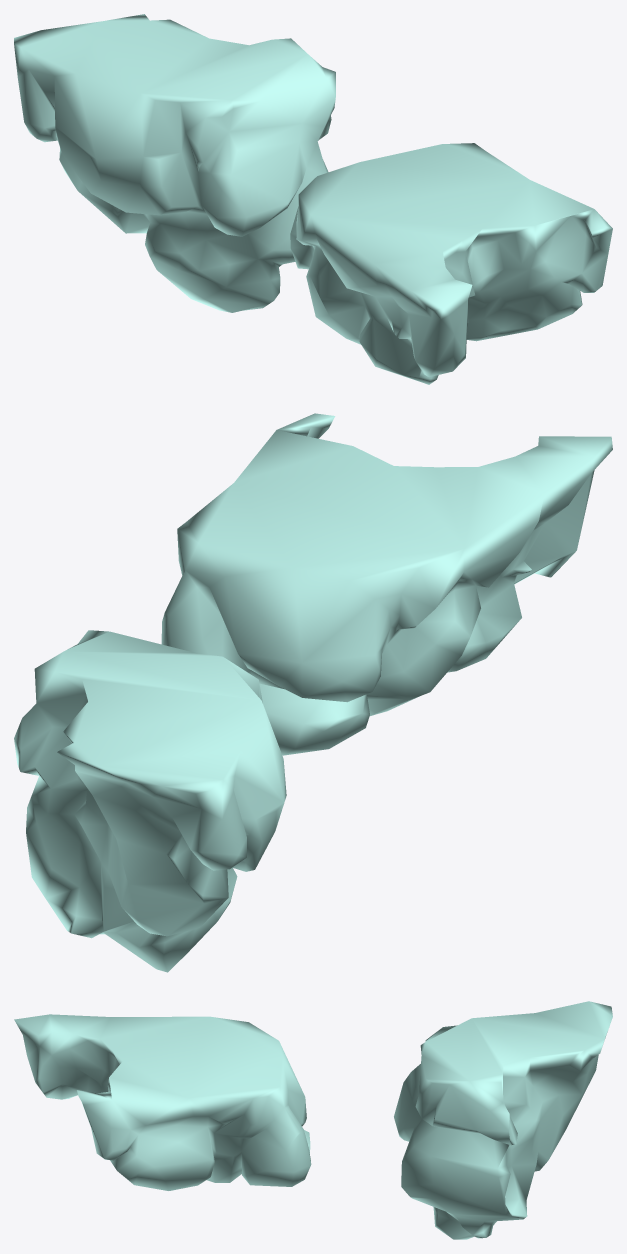
File: island_7_LOD4.fbx
3 views of the same model, one above another, from view 1: azimuth 30°, elevation 25°; view 2: azimuth 150°, elevation 25°; view 3: azimuth 270°, elevation 25° (orthographic). The views are drawn at different scales.
Parts seen in each view (by area): view 1: island_7_LOD4; view 2: island_7_LOD4; view 3: island_7_LOD4.
Boxes of the visible parts, <box> form: island_7_LOD4: <box>14,14,612,384</box>; island_7_LOD4: <box>14,413,612,972</box>; island_7_LOD4: <box>14,1001,612,1239</box>.
Size of the model in its own units: 954 by 806 by 2324.
